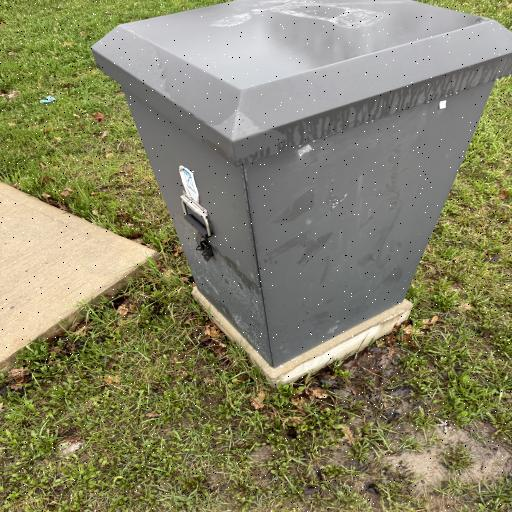Electrical Box: (87, 1, 511, 366)
